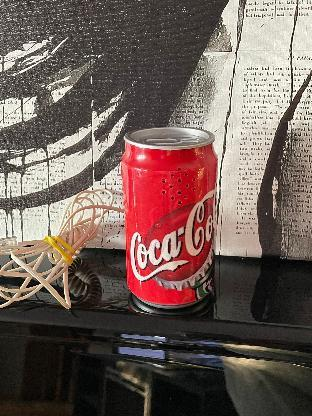Can: (120, 126, 220, 312)
